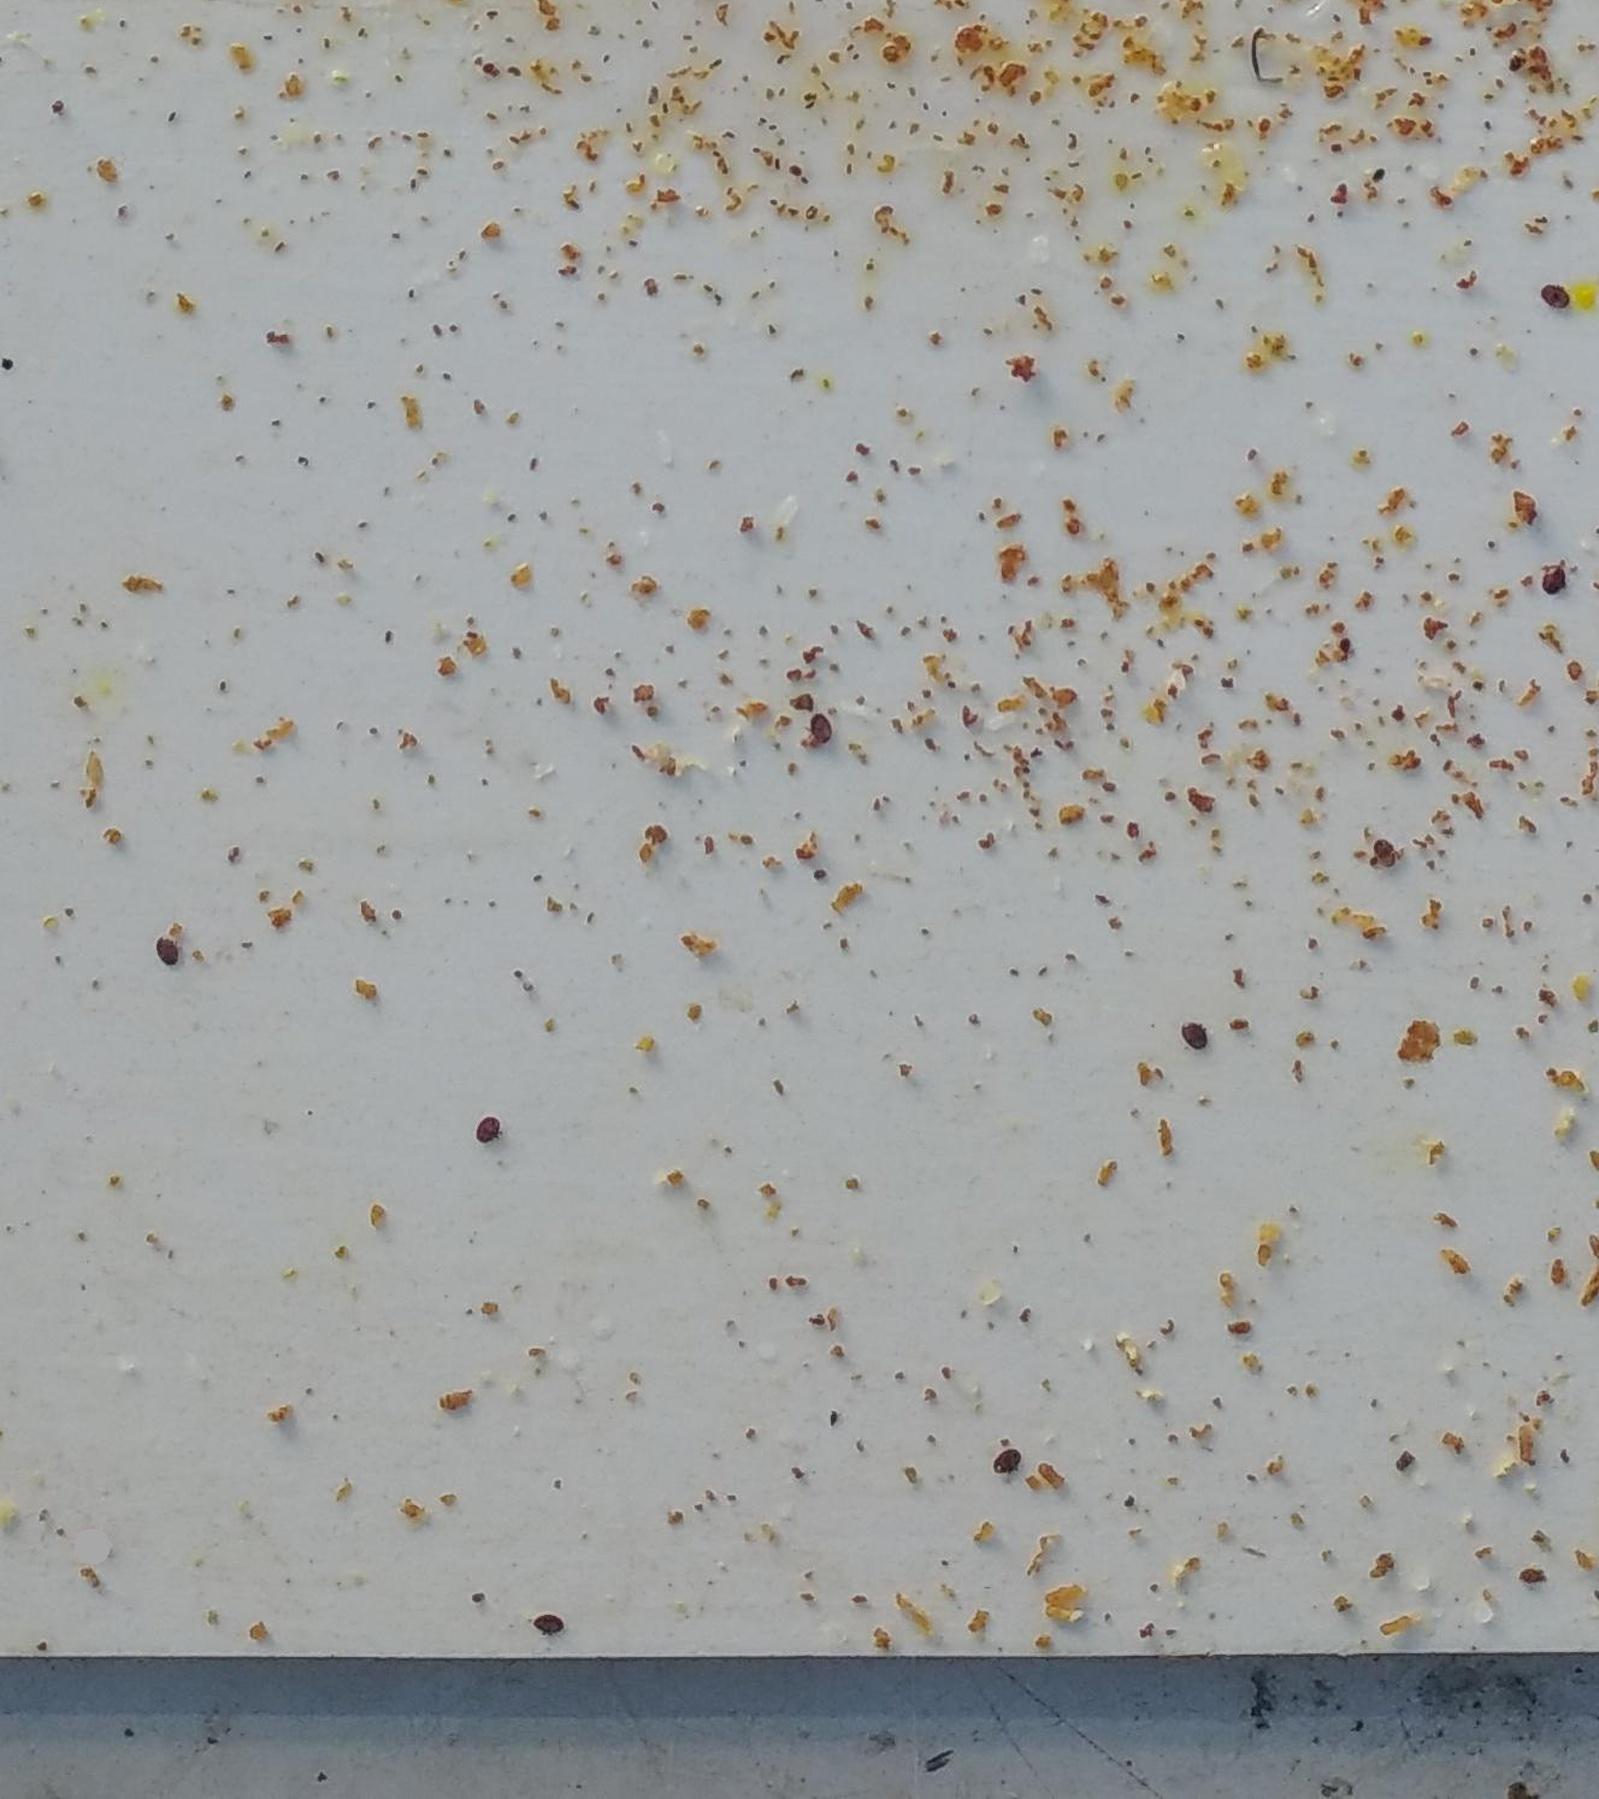Varroa: (1176, 1020, 1207, 1049), (1367, 839, 1397, 869), (539, 1608, 568, 1635), (809, 714, 837, 742), (1533, 565, 1559, 592), (988, 1441, 1014, 1467), (157, 932, 176, 958), (1548, 292, 1570, 312), (478, 1123, 500, 1142)
